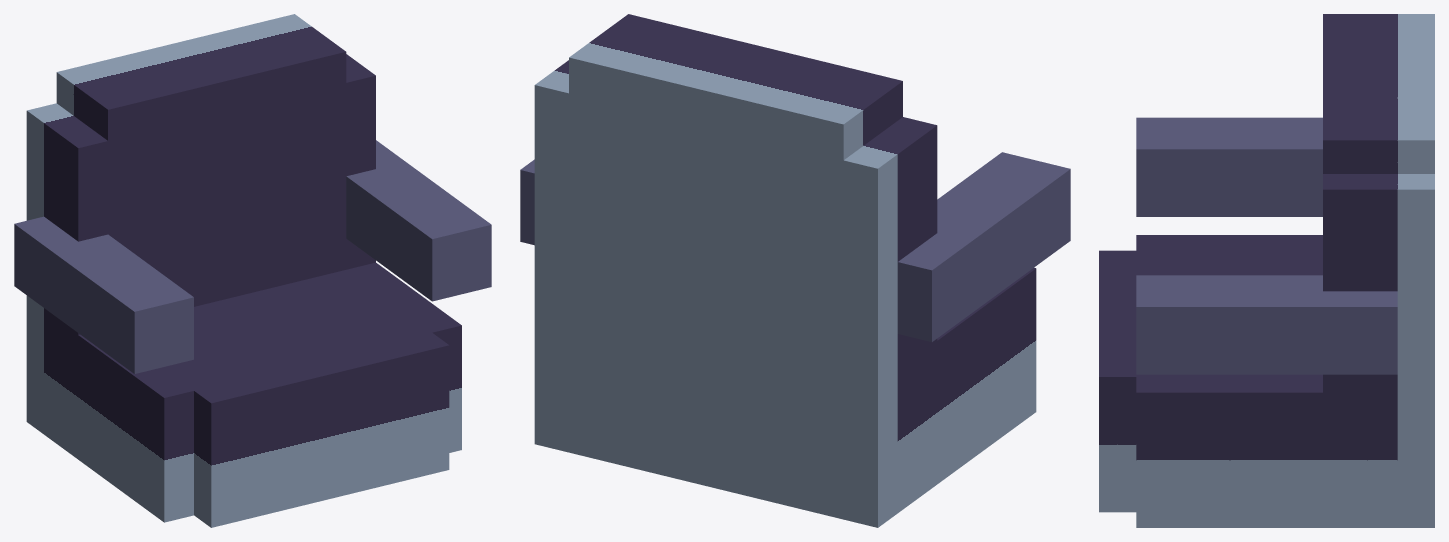
File: fotel.dae
The picture shows the model from 3 angles, left to right: view 1: azimuth 30°, elevation 25°; view 2: azimuth 150°, elevation 25°; view 3: azimuth 270°, elevation 25°; orthographic projection. The views are drawn at different scales.
Parts seen in each view (by area): view 1: fotel; view 2: fotel; view 3: fotel.
Boxes of the visible parts, x1,y1,x2,y2 form: fotel: (14,14,491,527); fotel: (520,14,1070,527); fotel: (1099,14,1434,527).
Size of the model in its own units: 12 by 11 by 9.
1 material, 1 textured.
